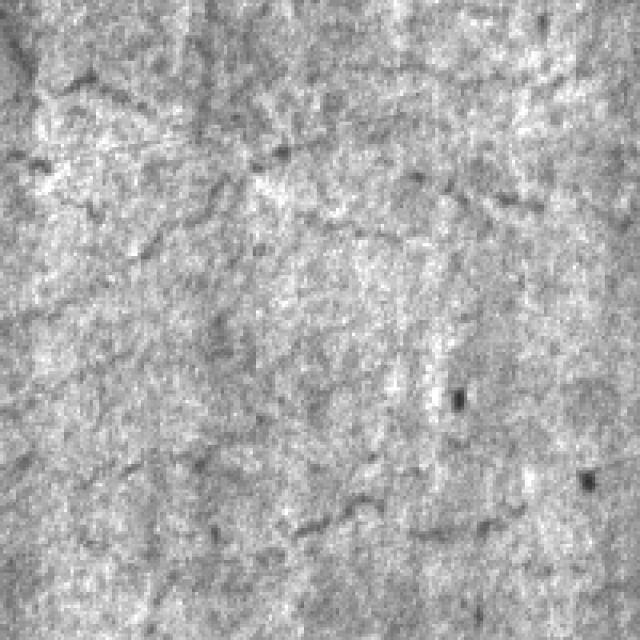crazing: (48, 400, 525, 598), (0, 6, 301, 269)
